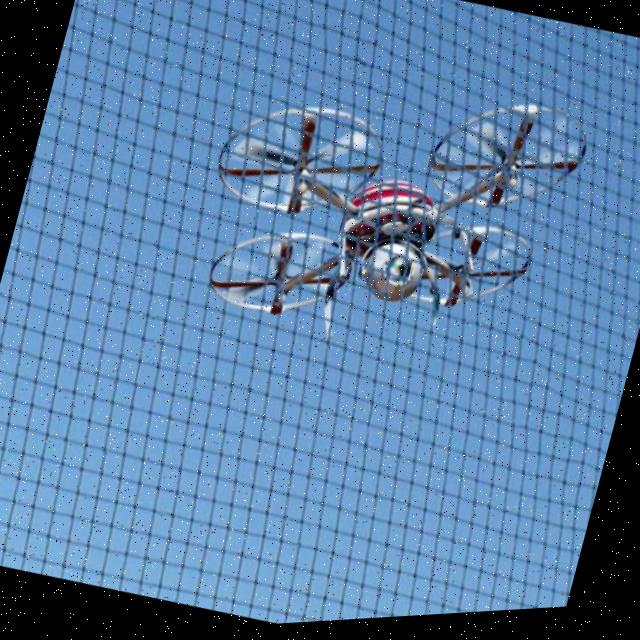drones: (169, 0, 640, 454)
